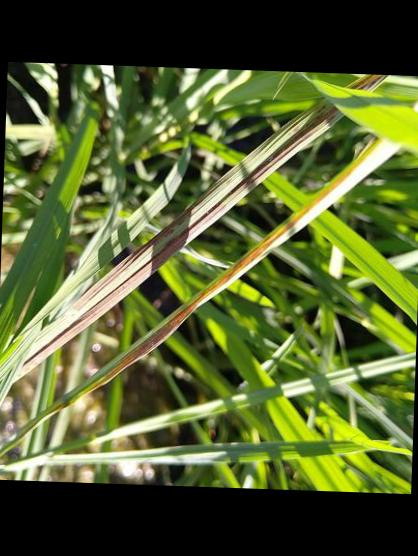Leaf Streak: (17, 136, 398, 434), (12, 104, 339, 381), (349, 74, 390, 92)
